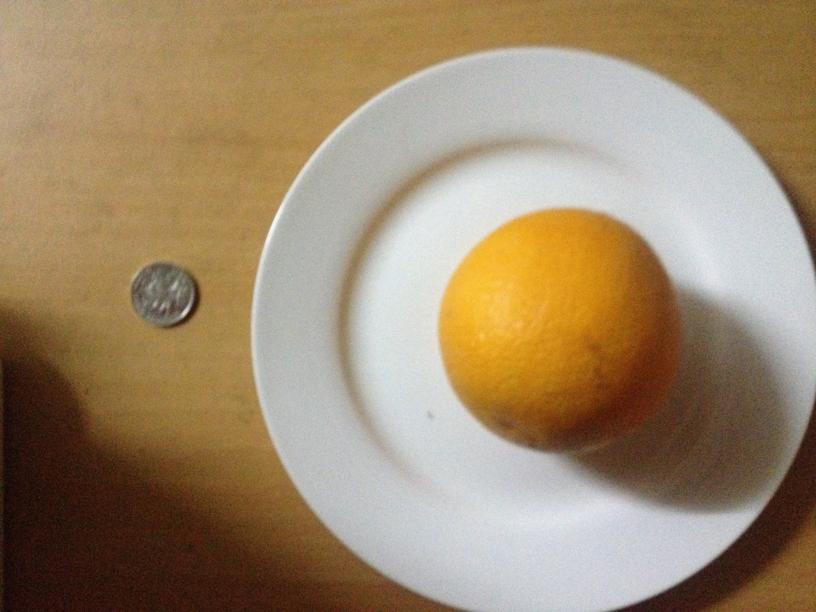coin: (131, 263, 197, 326)
orange: (441, 204, 677, 456)
